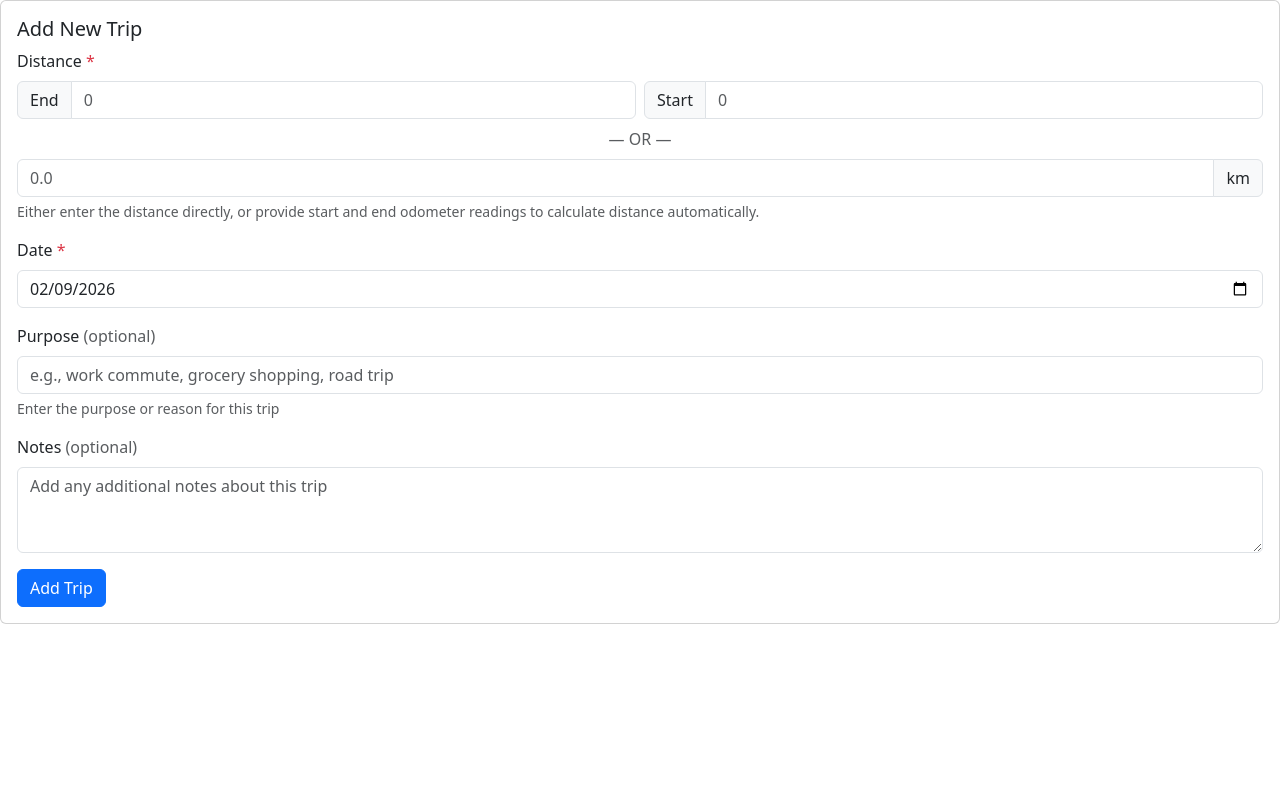
Test: TripForm › Create Mode › displays validation errors for empty required fields
Fill in date to bypass HTML5 validation, but leave distance empty
Step 1. Type "2024-01-15" into the date field labelled "Date *" → (640, 289), box [17,270,1263,308]
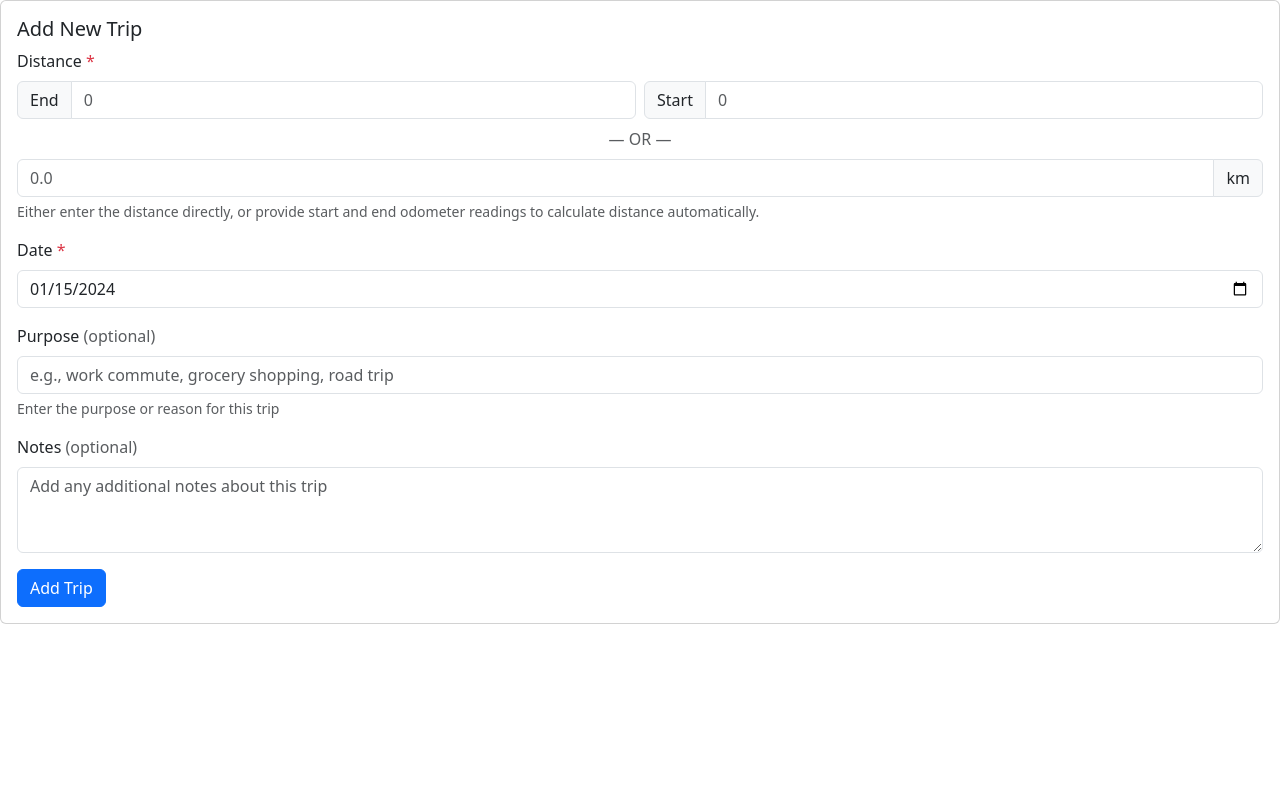
Step 2. Click the button "Add Trip" → (61, 588), box [17,569,106,607]
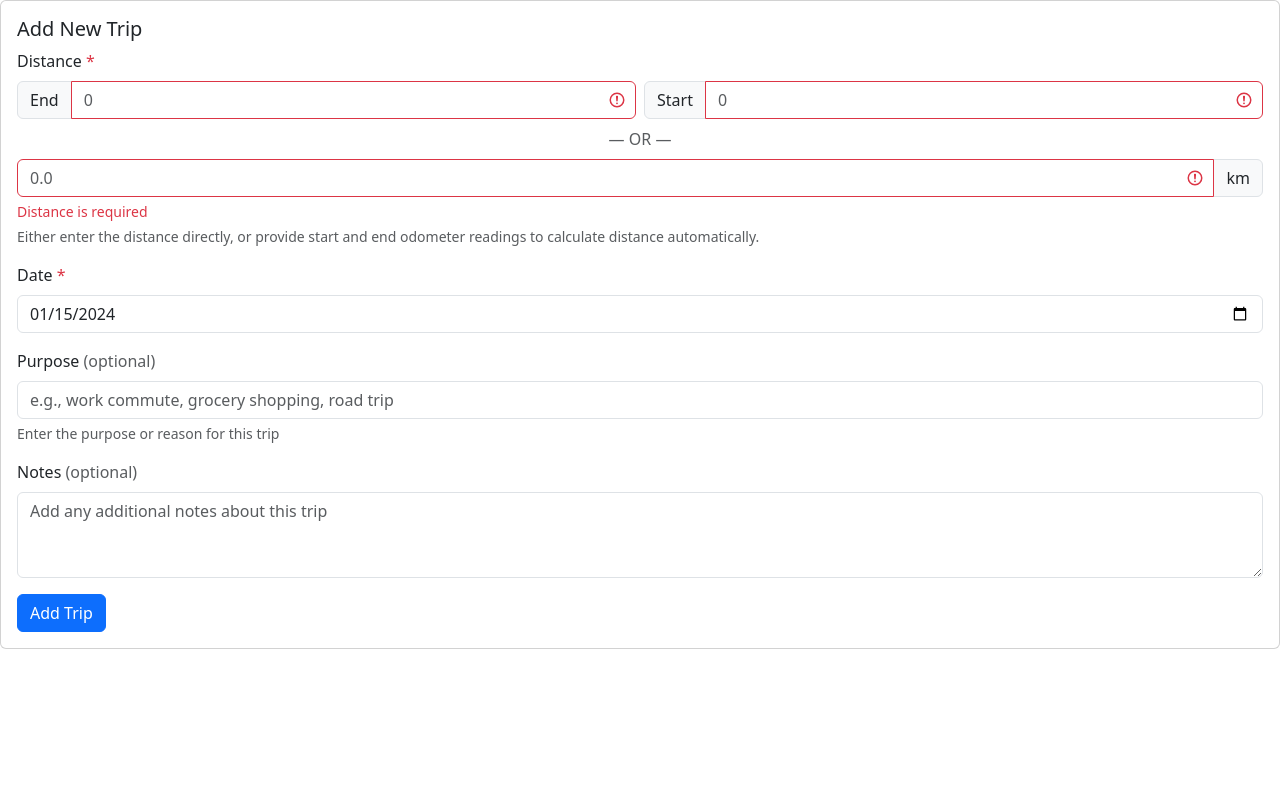
Check: the text "Distance is required" is shown, box [17,202,148,221]
